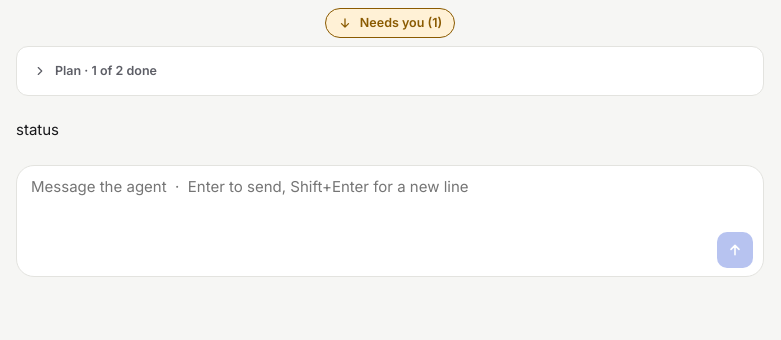
Test: Dock › ac8_plan_fold_has_a_chevron_and_toggles
Click the button "Plan · 1 of 2 done". click: (97, 71)
box: [29,55,165,87]
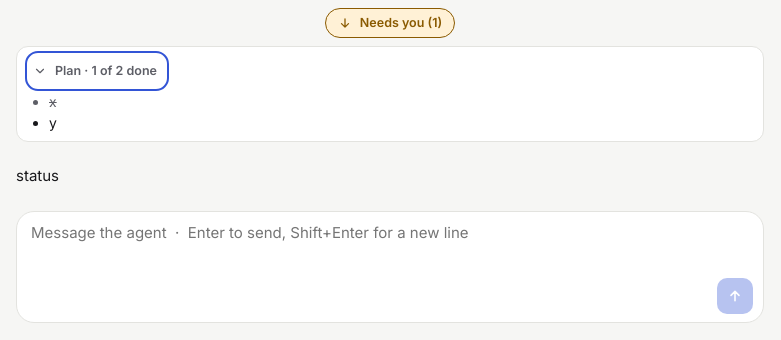
Expected: the button "Plan · 1 of 2 done" is expanded
Expected: the list item "y" is shown, [49,114,57,131]
Click the button "Plan · 1 of 2 done". click: (97, 71)
box: [29,55,165,87]
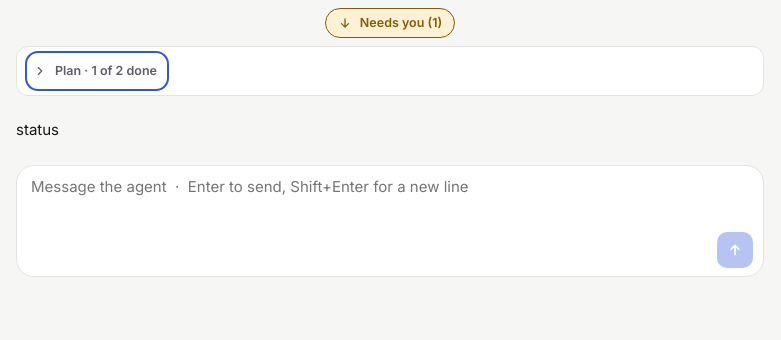
Expected: the button "Plan · 1 of 2 done" is collapsed, [29,55,165,87]
